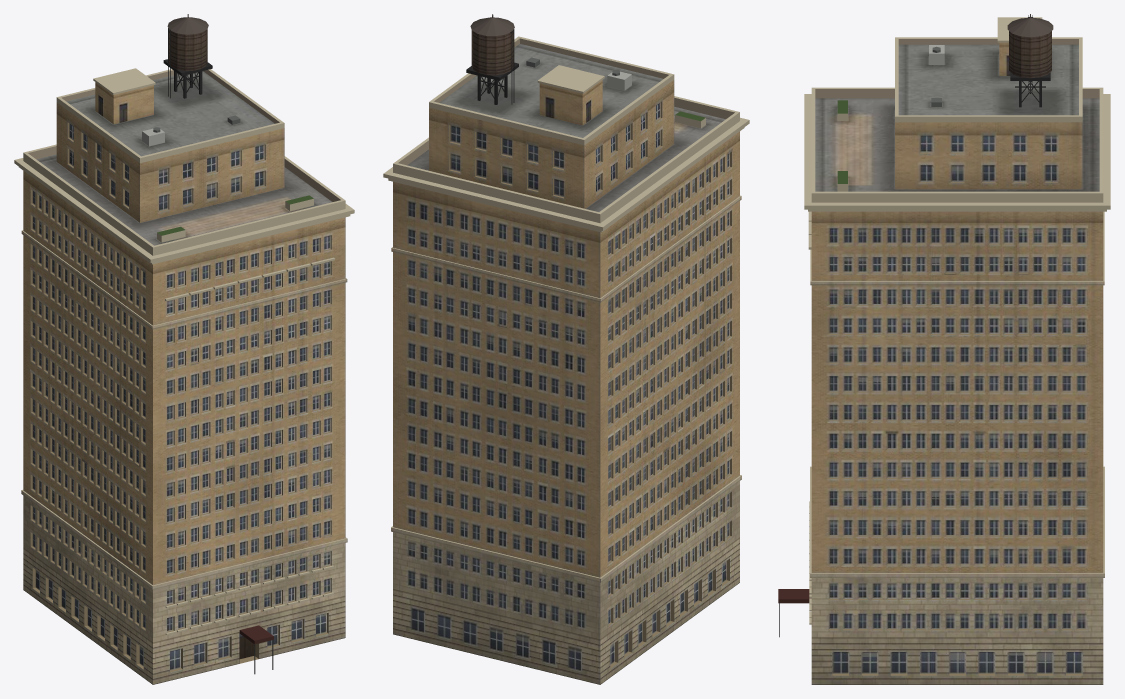
File: nyc_prewar_b.glb
3 renders of one model, left to right at view 1: azimuth 30°, elevation 25°; view 2: azimuth 150°, elevation 25°; view 3: azimuth 270°, elevation 25°, orthographic. The views are drawn at different scales.
Parts seen in each view (by area): view 1: nyc_prewar_b; view 2: nyc_prewar_b; view 3: nyc_prewar_b.
Boxes of the visible parts, bbox=[...] form: nyc_prewar_b: bbox=[14, 14, 354, 684]; nyc_prewar_b: bbox=[383, 14, 749, 684]; nyc_prewar_b: bbox=[778, 14, 1110, 684].
Bounding box in the file's own units: 25.4 × 67.5 × 31.9.
Materials: 1 (1 with a texture image).
